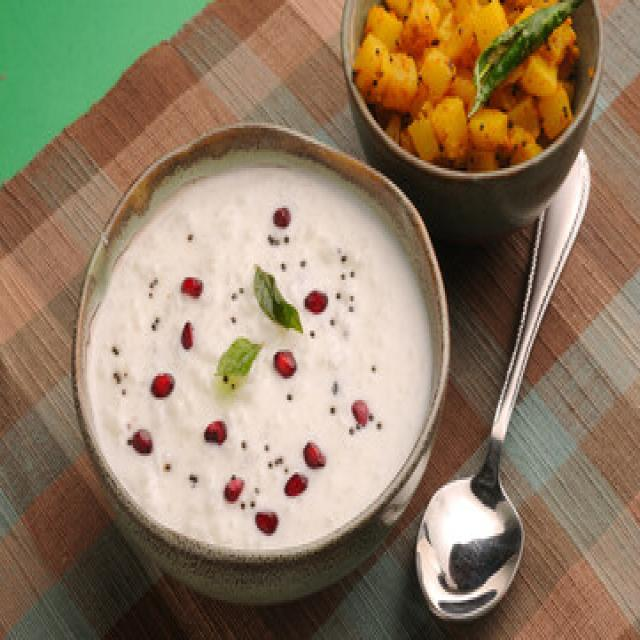CURD RICE: (83, 166, 433, 549)
VEGGIES: (356, 0, 581, 173)
